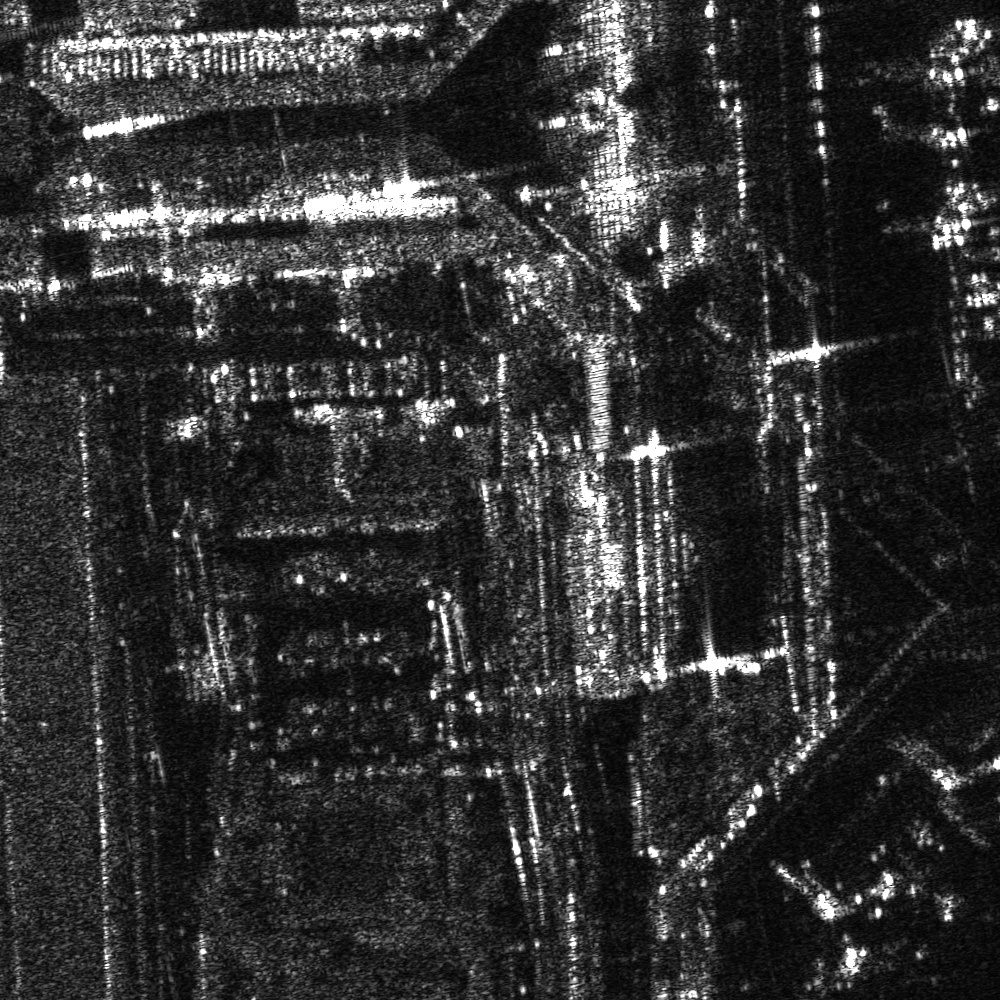A320/321: (924, 7, 999, 116), (914, 174, 999, 264), (887, 863, 969, 928)
